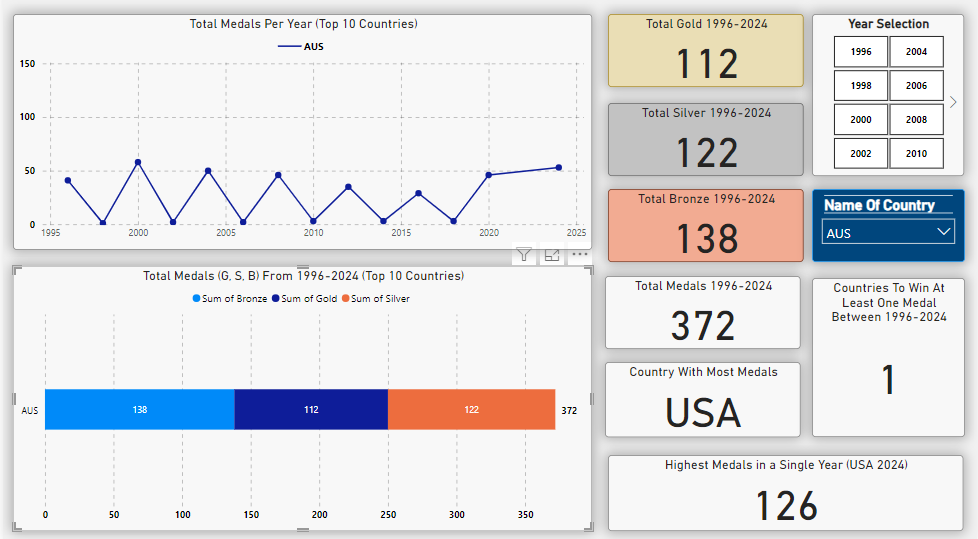

The page's visual inventory and layout, read from the dashboard file:
{"tool":"powerbi","page":{"name":"Overall analysis of Olympic from 1996-2024","canvas":[1280,720],"ordinal":0},"visuals":[{"type":"barChart","title":"Total Medals (G, S, B) From 1996-2024 (Top 10 Countries)","fields":{"Category":["olympics.NOC"],"Y":["Sum(olympics.Bronze)","Sum(olympics.Gold)","Sum(olympics.Silver)"]},"box":[13.8,360.6,761.1,348.2],"z":0},{"type":"lineChart","title":"Total Medals Per Year (Top 10 Countries)","fields":{"Category":["olympics.Year"],"Y":["Sum(olympics.Total)"],"Series":["olympics.NOC"]},"box":[13.8,28.9,761.1,309.7],"z":1000},{"type":"card","title":"Total Medals 1996-2024","fields":{"Values":["Sum(olympics.Total)"]},"box":[791.4,373,257.4,96.3],"z":2000},{"type":"card","title":"Highest Medals in a Single Year (USA 2024)","fields":{"Values":["total medals per year by country.MaxTotalMedals"]},"box":[795.5,608.3,466.6,100.5],"z":3000},{"type":"card","title":"Country With Most Medals","fields":{"Values":["total medals per year by country.TopCountry"]},"box":[791.4,485.8,257.4,99.1],"z":4000},{"type":"card","title":"Total Gold 1996-2024","fields":{"Values":["Sum(olympics.Gold)"]},"box":[795.5,28.9,257.4,96.3],"z":5000},{"type":"card","title":"Total Silver 1996-2024","fields":{"Values":["Sum(olympics.Silver)"]},"box":[795.5,145.9,257.4,96.3],"z":6000},{"type":"card","title":"Total Bronze 1996-2024","fields":{"Values":["Sum(olympics.Bronze)"]},"box":[795.5,258.8,257.4,96.3],"z":7000},{"type":"slicer","fields":{"Values":["olympics.NOC"]},"box":[1062.5,258.8,200.9,96.3],"z":8000},{"type":"kpi","title":"Countries To Win At Least One Medal Between 1996-2024","fields":{"Indicator":["Count(olympics.NOC)"],"TrendLine":["olympics.Total Medals"]},"box":[1062.5,375.7,200.9,209.2],"z":9000},{"type":"slicer","title":"Year Selection","fields":{"Values":["olympics.Year"]},"box":[1062.5,28.9,199.6,213.3],"z":10000}]}

Visuals, with their boxes in screenshot pixels (x1, y1, x2, y2), scaled from the page's 1280x720 canvas onto the 978x539 screenshot:
"Total Medals (G, S, B) From 1996-2024 (Top 10 Countries)" barChart: x1=11 y1=270 x2=592 y2=531
"Total Medals Per Year (Top 10 Countries)" lineChart: x1=11 y1=22 x2=592 y2=253
"Total Medals 1996-2024" card: x1=605 y1=279 x2=801 y2=351
"Highest Medals in a Single Year (USA 2024)" card: x1=608 y1=455 x2=964 y2=531
"Country With Most Medals" card: x1=605 y1=364 x2=801 y2=438
"Total Gold 1996-2024" card: x1=608 y1=22 x2=804 y2=94
"Total Silver 1996-2024" card: x1=608 y1=109 x2=804 y2=181
"Total Bronze 1996-2024" card: x1=608 y1=194 x2=804 y2=266
slicer - olympics.NOC: x1=812 y1=194 x2=965 y2=266
"Countries To Win At Least One Medal Between 1996-2024" kpi: x1=812 y1=281 x2=965 y2=438
"Year Selection" slicer: x1=812 y1=22 x2=964 y2=181
